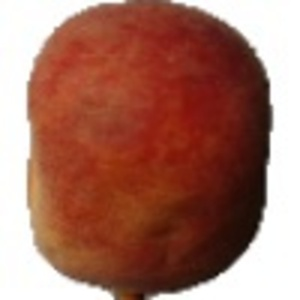pêssego: (24, 1, 274, 300)
